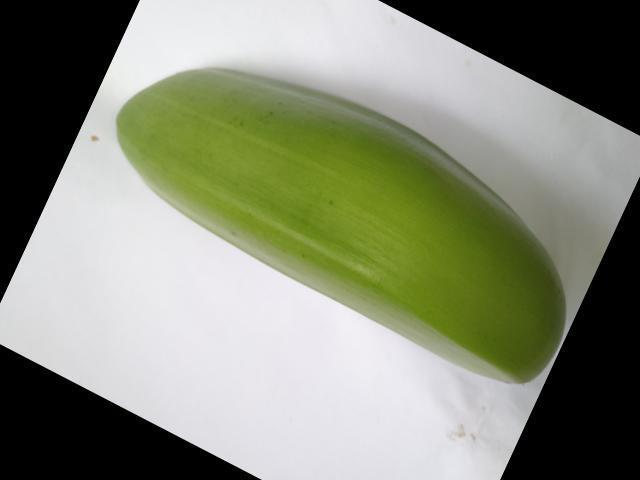freshunripe: (108, 55, 593, 396)
